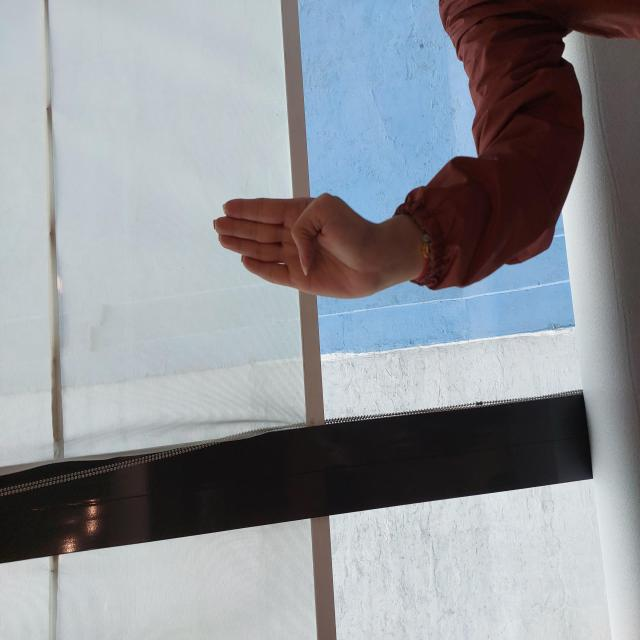B: (342, 210, 451, 386)
